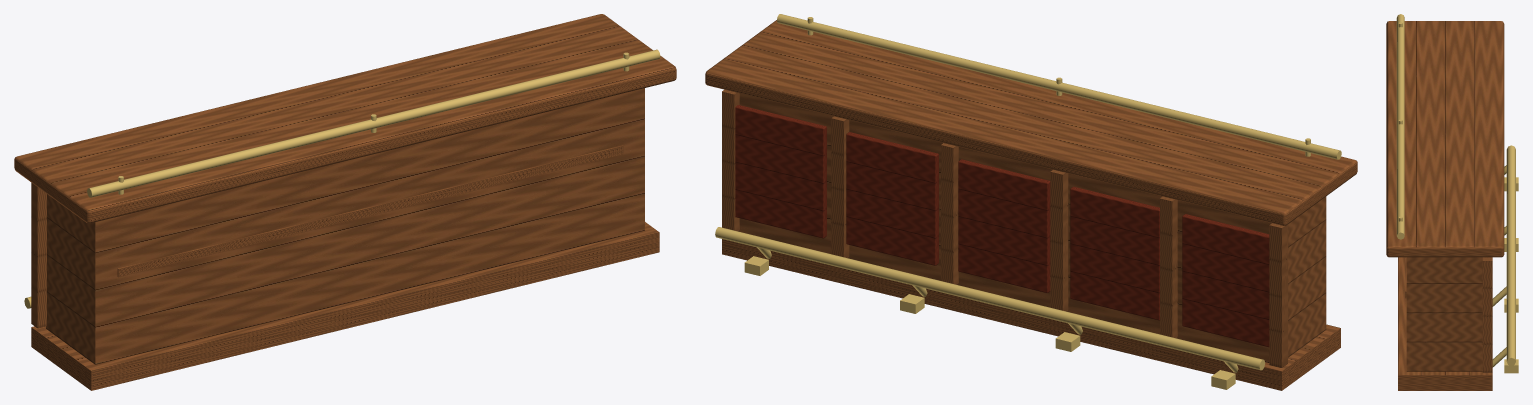
Rendered from wild-west-frontier-town-saloon-bar-counter-ca2cbad2__30112.glb.
3 views of the same model, side by side, from view 1: azimuth 30°, elevation 25°; view 2: azimuth 150°, elevation 25°; view 3: azimuth 270°, elevation 25° (orthographic). The views are drawn at different scales.
Visible parts, largest first — view 1: saloon-bar-counter; view 2: saloon-bar-counter; view 3: saloon-bar-counter.
Part boxes in pixels (x1,y1,x2,y2): saloon-bar-counter: [14, 14, 676, 390]; saloon-bar-counter: [705, 14, 1357, 390]; saloon-bar-counter: [1386, 14, 1518, 390].
Bounding box in the file's own units: 3.74 × 1.24 × 0.9199.
Materials: 4 (2 with a texture image).
